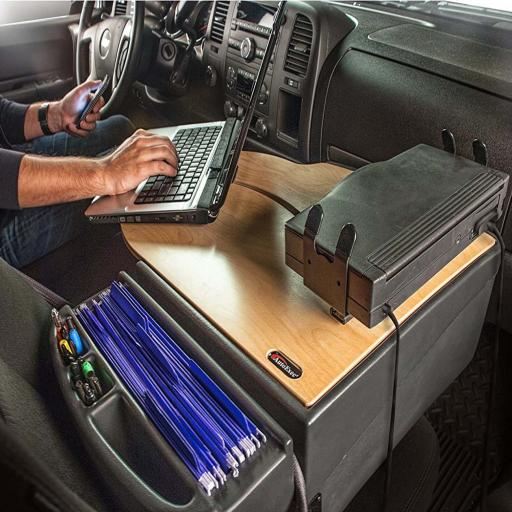desk: (49, 149, 507, 512)
